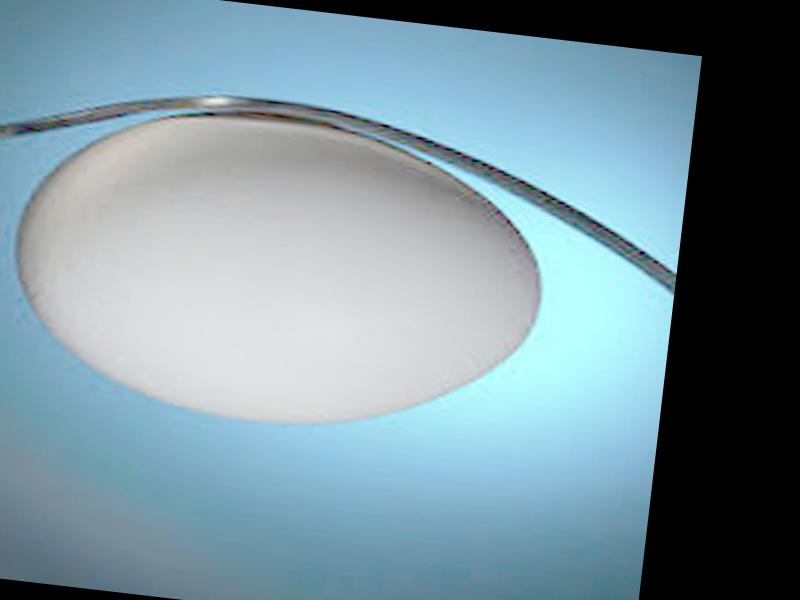Eggs: (0, 90, 557, 448)
